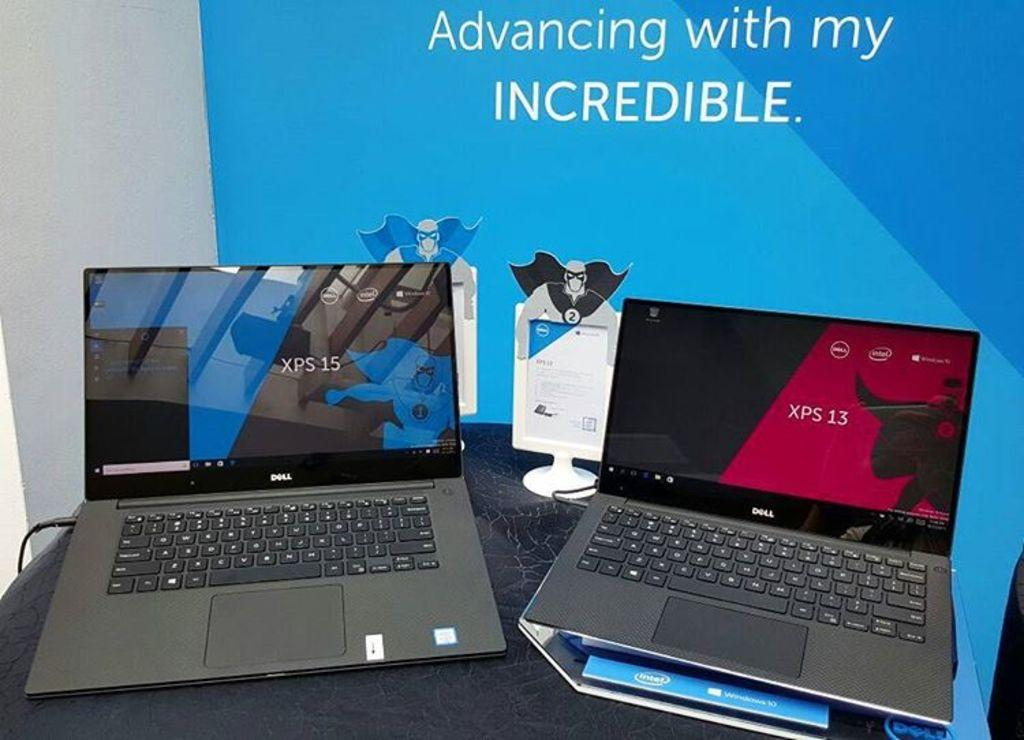Computer-keyboard: (576, 504, 928, 642), (104, 494, 438, 595)
